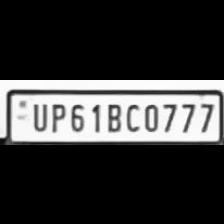0: (140, 99, 160, 130)
1: (87, 100, 103, 132)
6: (67, 100, 87, 132)
7: (176, 98, 196, 132), (195, 98, 215, 132), (159, 99, 177, 131)
B: (102, 100, 122, 132)
C: (122, 99, 142, 130)
P: (47, 98, 66, 132)
U: (28, 99, 48, 131)
